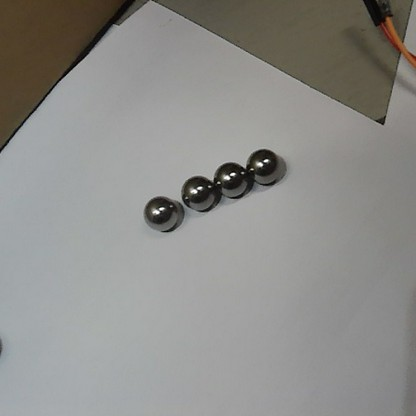ironball: (142, 194, 182, 238), (244, 147, 285, 188), (179, 174, 218, 211), (212, 160, 249, 198)
